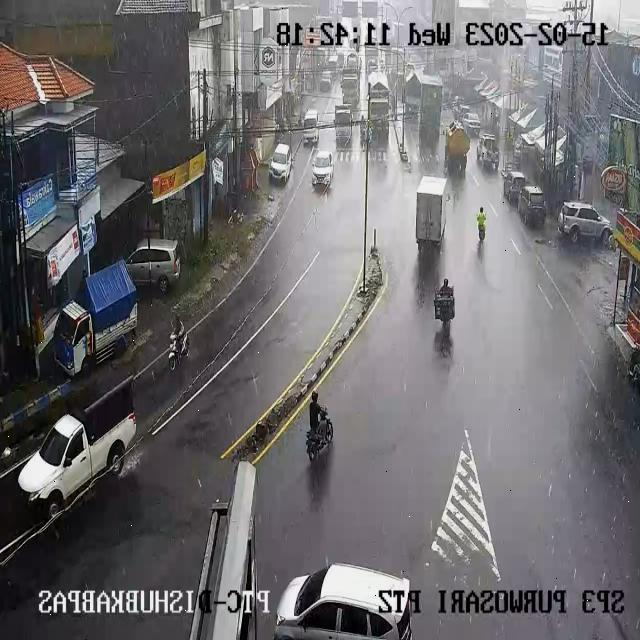Car: (16, 392, 138, 519), (274, 565, 416, 639), (128, 238, 183, 294), (559, 202, 613, 246), (517, 187, 546, 226), (270, 143, 292, 184), (310, 152, 331, 194), (476, 134, 500, 170), (502, 170, 527, 203), (302, 108, 320, 144), (337, 48, 358, 72), (462, 112, 482, 135), (320, 70, 332, 92), (328, 54, 339, 74), (458, 105, 470, 119), (368, 58, 378, 72)
Motorbike: (302, 392, 334, 462), (425, 277, 459, 328), (168, 321, 190, 370), (478, 206, 488, 241)
Truck: (53, 261, 138, 377), (412, 176, 452, 258), (418, 70, 442, 138), (367, 72, 391, 128), (443, 122, 468, 166), (340, 56, 360, 104), (402, 72, 422, 115), (334, 105, 353, 147)
